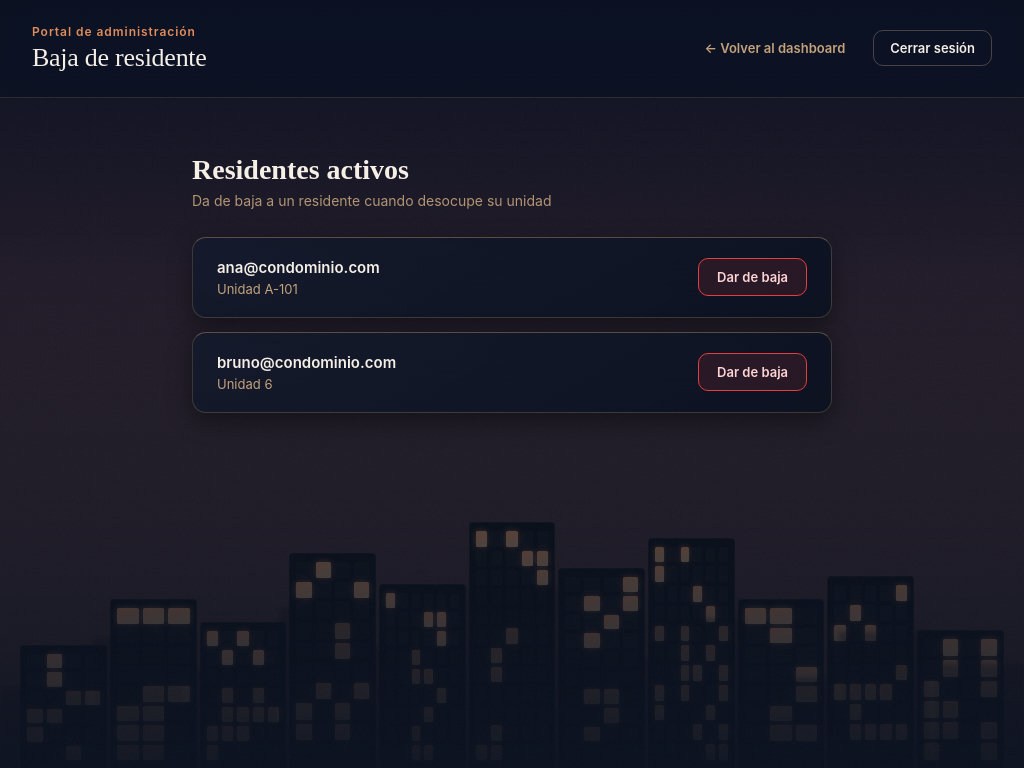
CU-05 BajaResidentePage › clic fuera del modal lo cierra
Click the button "Dar de baja" in the row of "ana@condominio.com": coordinates (753, 277) x1=698 y1=258 x2=807 y2=296
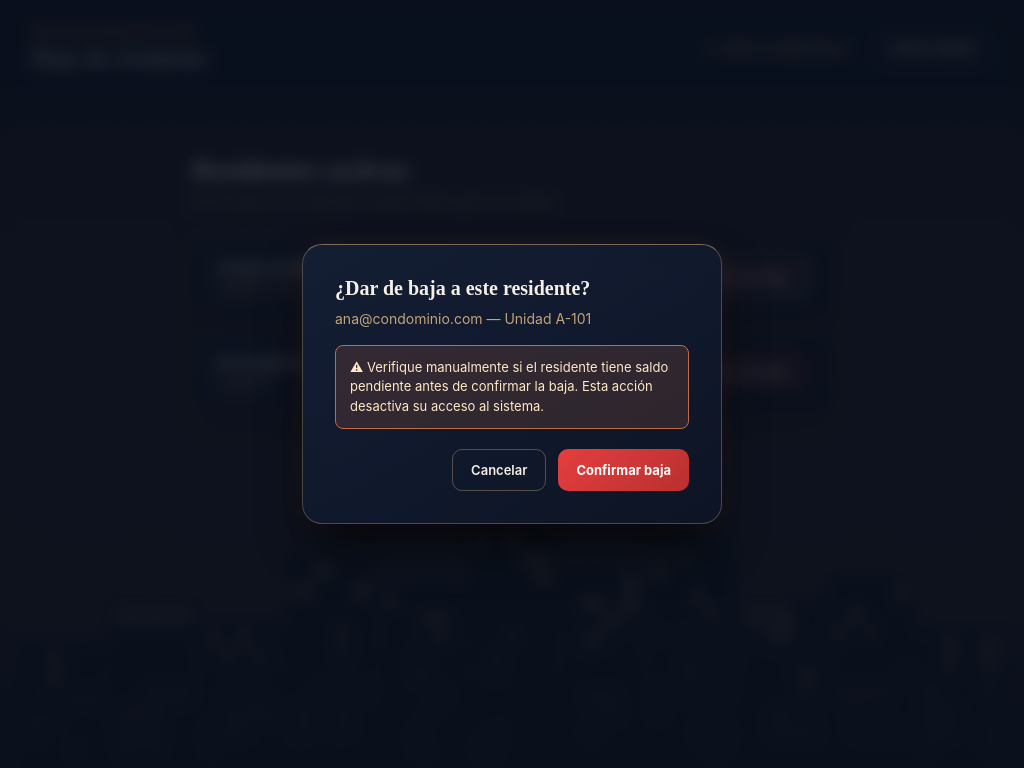
Click the element with class "modal-overlay": coordinates (61, 384) x1=0 y1=0 x2=1023 y2=767
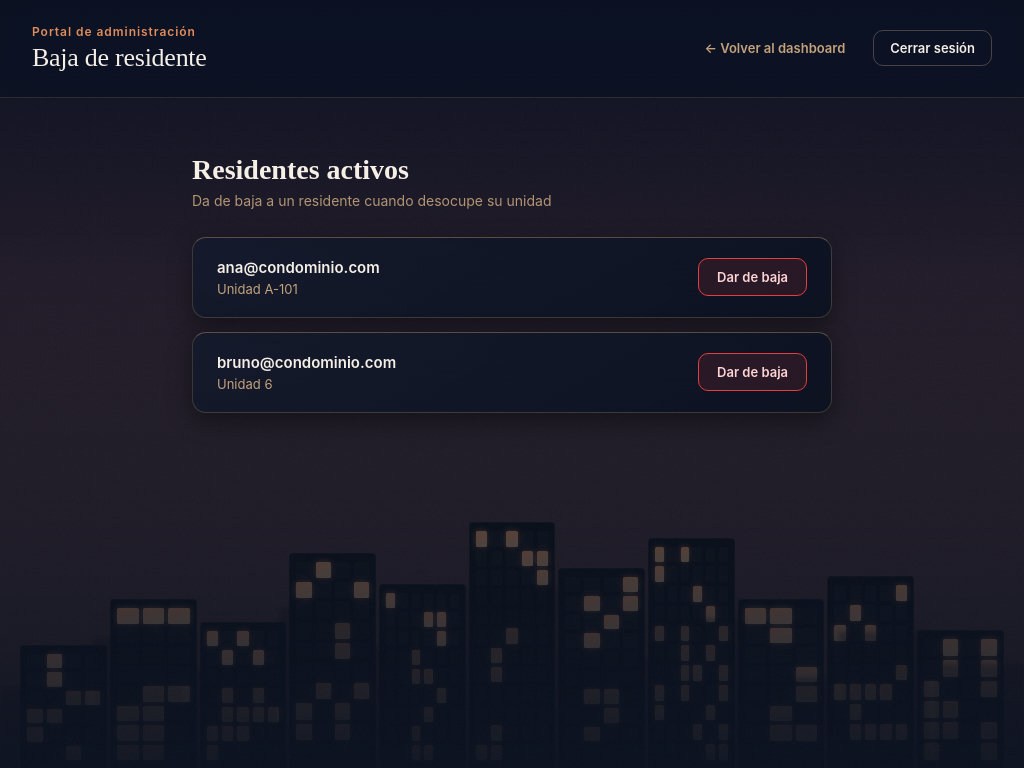
expect the dialog is gone: met
